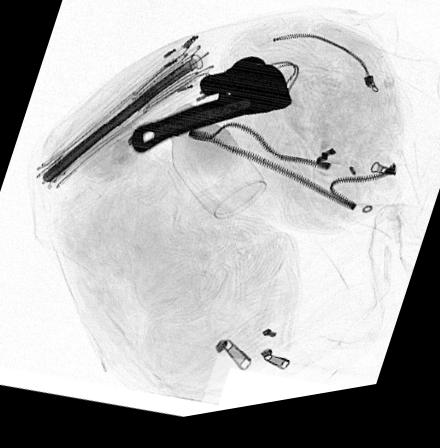Wrench: (127, 61, 293, 161)
